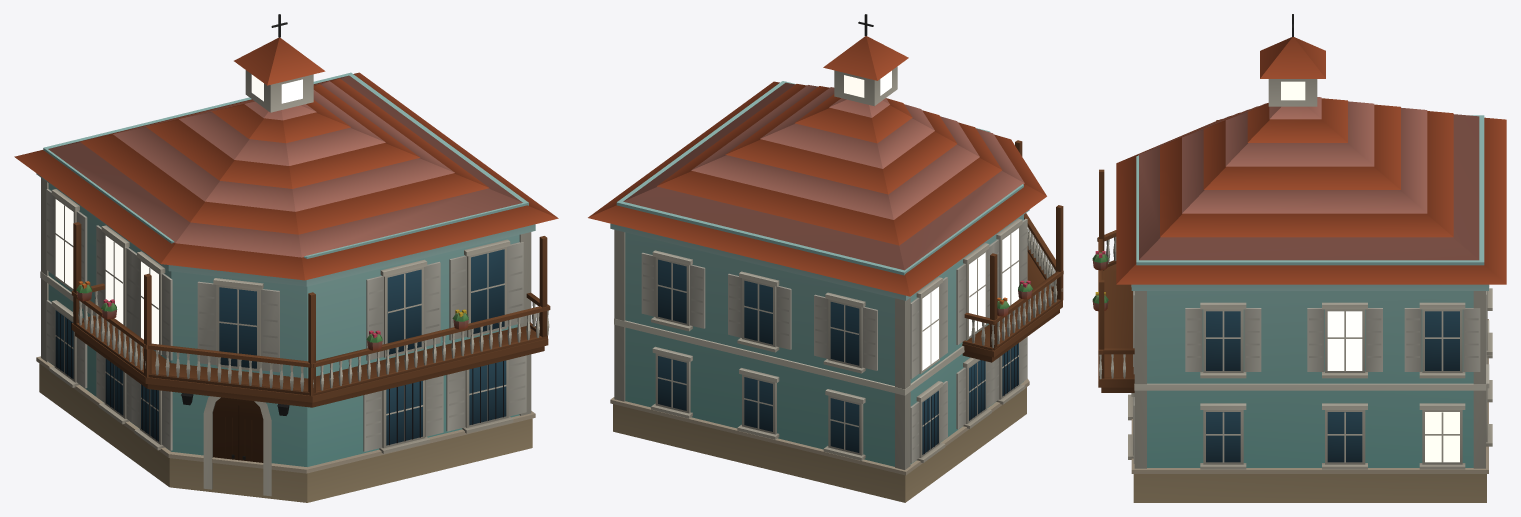
Rendered from casa_colonial_b.glb.
3 views of the same model, side by side, from view 1: azimuth 30°, elevation 25°; view 2: azimuth 150°, elevation 25°; view 3: azimuth 270°, elevation 25° (orthographic). The views are drawn at different scales.
Parts seen in each view (by area): view 1: casa_colonial_b; view 2: casa_colonial_b; view 3: casa_colonial_b.
Boxes of the visible parts, x1,y1,x2,y2 form: casa_colonial_b: (14,14,558,502); casa_colonial_b: (588,14,1063,502); casa_colonial_b: (1092,14,1506,502).
Size of the model in its own units: 11.9 by 12.9 by 11.91.
